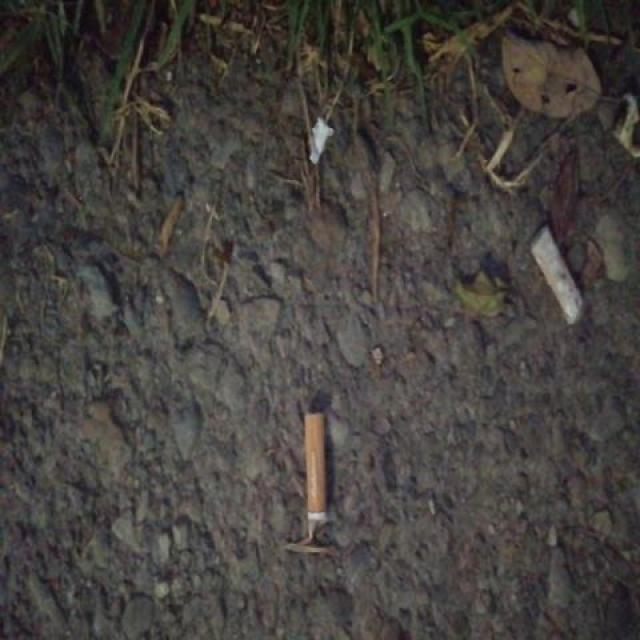non-organic waste: (524, 219, 591, 329), (300, 409, 332, 547)
